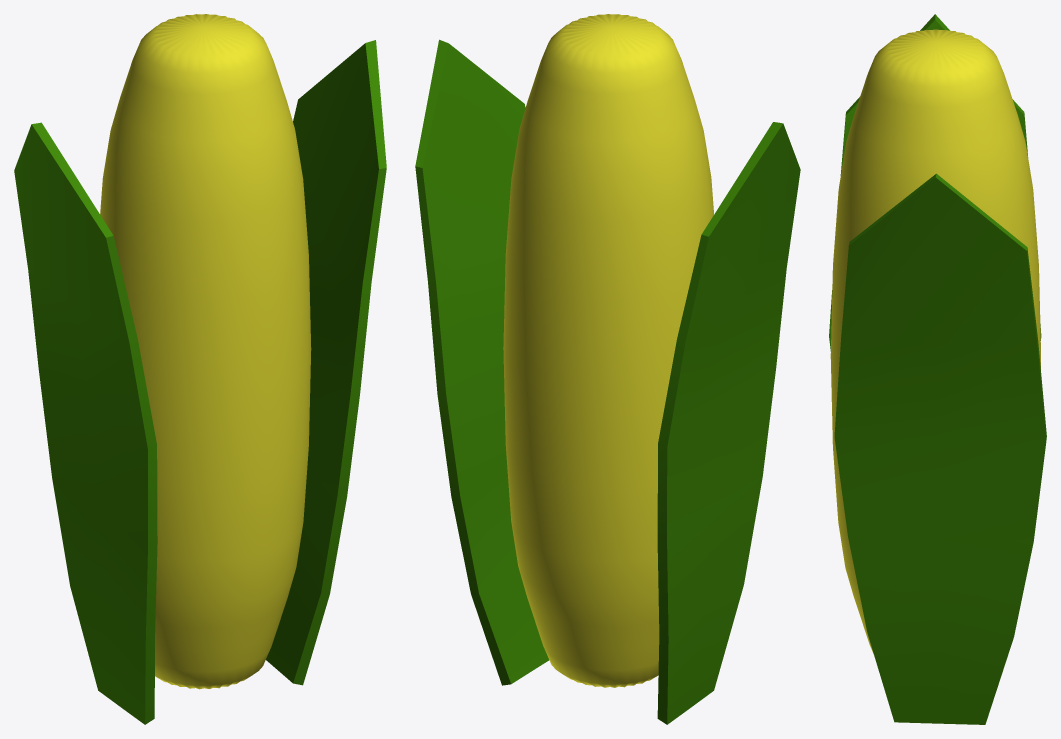
Rendered from Milho.fbx.
3 renders of one model, left to right at view 1: azimuth 30°, elevation 25°; view 2: azimuth 150°, elevation 25°; view 3: azimuth 270°, elevation 25°, orthographic. The views are drawn at different scales.
Visible parts, largest first — view 1: Cylinder.001, Grid, Grid.001; view 2: Cylinder.001, Grid, Grid.001; view 3: Grid.001, Cylinder.001, Grid.
Boxes of the visible parts, x1=… form: Cylinder.001: x1=100, y1=14, x2=311, y2=689; Grid: x1=14, y1=122, x2=157, y2=724; Grid.001: x1=266, y1=40, x2=386, y2=685; Cylinder.001: x1=503, y1=14, x2=713, y2=687; Grid: x1=657, y1=122, x2=800, y2=724; Grid.001: x1=415, y1=39, x2=548, y2=685; Grid.001: x1=834, y1=173, x2=1046, y2=724; Cylinder.001: x1=830, y1=29, x2=1040, y2=653; Grid: x1=829, y1=14, x2=1041, y2=351.
Bounding box in the file's own units: 61.73 × 113 × 34.78.
